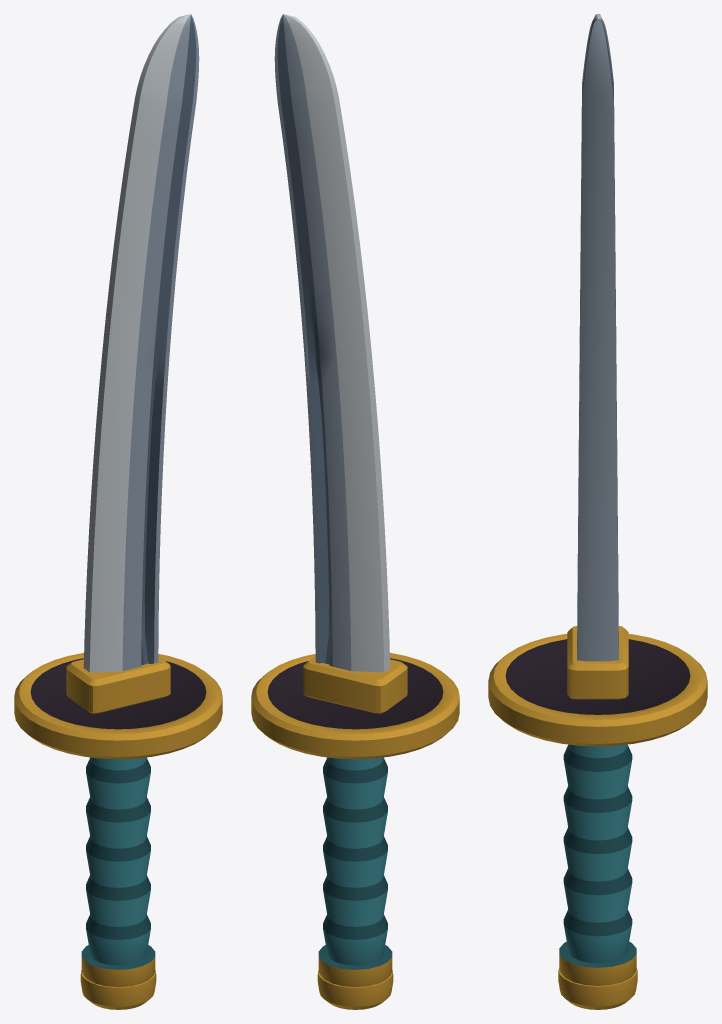
The model's file is Katana_20.glb.
3 views of the same model, side by side, from view 1: azimuth 30°, elevation 25°; view 2: azimuth 150°, elevation 25°; view 3: azimuth 270°, elevation 25° (orthographic). The views are drawn at different scales.
Visible parts, largest first — view 1: Katana_20; view 2: Katana_20; view 3: Katana_20.
Boxes of the visible parts, left/top/right/bottom form: Katana_20: left=14, top=14, right=222, bottom=1009; Katana_20: left=251, top=14, right=459, bottom=1009; Katana_20: left=488, top=14, right=707, bottom=1009.
Size of the model in its own units: 1.28 by 6.52 by 1.28.
